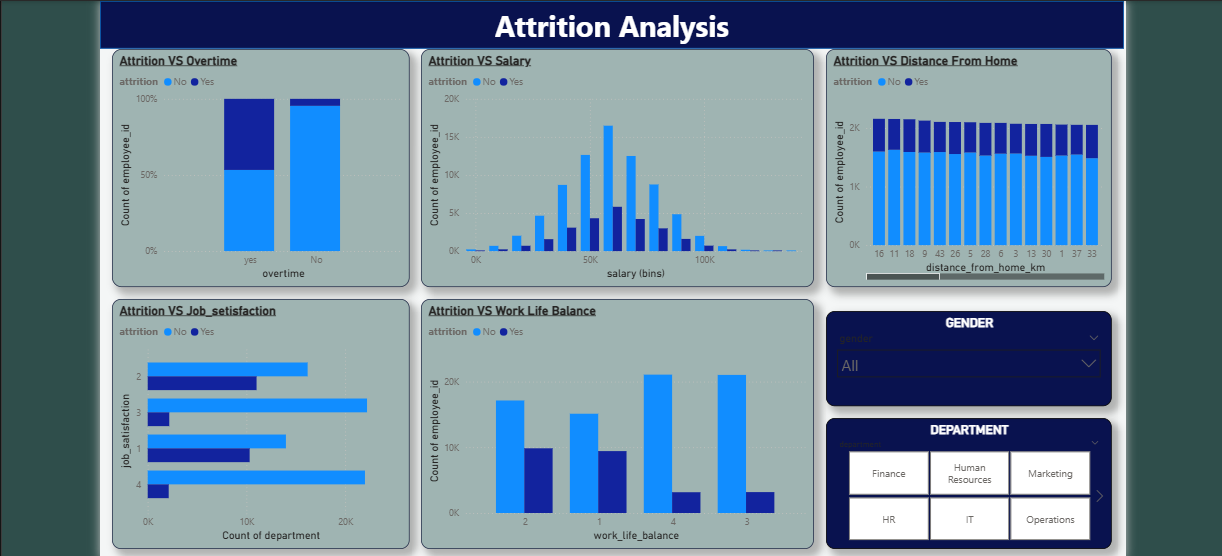

The page's visual inventory and layout, read from the dashboard file:
{"tool":"powerbi","page":{"name":"Attrition Analysis","canvas":[1280,720],"ordinal":1},"visuals":[{"type":"hundredPercentStackedColumnChart","title":"Attrition VS Overtime","fields":{"Category":["clean_hr_attrition_dataset_12.overtime"],"Series":["clean_hr_attrition_dataset_12.attrition"],"Y":["CountNonNull(clean_hr_attrition_dataset_12.employee_id)"]},"box":[32,32,368,288],"z":0},{"type":"clusteredColumnChart","title":"Attrition VS Salary","fields":{"Series":["clean_hr_attrition_dataset_12.attrition"],"Y":["CountNonNull(clean_hr_attrition_dataset_12.employee_id)"],"Category":["clean_hr_attrition_dataset_12.salary (bins)"]},"box":[448,32,384,288],"z":1000},{"type":"clusteredBarChart","title":"Attrition VS Job_setisfaction","fields":{"Series":["clean_hr_attrition_dataset_12.attrition"],"Category":["clean_hr_attrition_dataset_12.job_satisfaction"],"Y":["CountNonNull(clean_hr_attrition_dataset_12.department)"]},"box":[32,416,368,288],"z":2000},{"type":"clusteredColumnChart","title":"Attrition VS Work Life  Balance","fields":{"Series":["clean_hr_attrition_dataset_12.attrition"],"Y":["CountNonNull(clean_hr_attrition_dataset_12.employee_id)"],"Category":["clean_hr_attrition_dataset_12.work_life_balance"]},"box":[448,416,384,288],"z":3000},{"type":"columnChart","title":"Attrition VS Distance From Home","fields":{"Series":["clean_hr_attrition_dataset_12.attrition"],"Y":["CountNonNull(clean_hr_attrition_dataset_12.employee_id)"],"Category":["clean_hr_attrition_dataset_12.distance_from_home_km"]},"box":[880,32,368,288],"z":4000},{"type":"slicer","fields":{"Values":["clean_hr_attrition_dataset_12.department"]},"box":[880,544,368,160],"z":5000},{"type":"slicer","fields":{"Values":["clean_hr_attrition_dataset_12.gender"]},"box":[880,416,368,112],"z":6000}]}

Visuals, with their boxes on the page's 1280x720 design canvas (x1, y1, x2, y2). These are canvas units, not pixel positions in the 1222x556 screenshot, which may show the page scaled, cropped or inside an application window:
"Attrition VS Overtime" hundredPercentStackedColumnChart: region(32, 32, 400, 320)
"Attrition VS Salary" clusteredColumnChart: region(448, 32, 832, 320)
"Attrition VS Job_setisfaction" clusteredBarChart: region(32, 416, 400, 704)
"Attrition VS Work Life  Balance" clusteredColumnChart: region(448, 416, 832, 704)
"Attrition VS Distance From Home" columnChart: region(880, 32, 1248, 320)
slicer - clean_hr_attrition_dataset_12.department: region(880, 544, 1248, 704)
slicer - clean_hr_attrition_dataset_12.gender: region(880, 416, 1248, 528)
